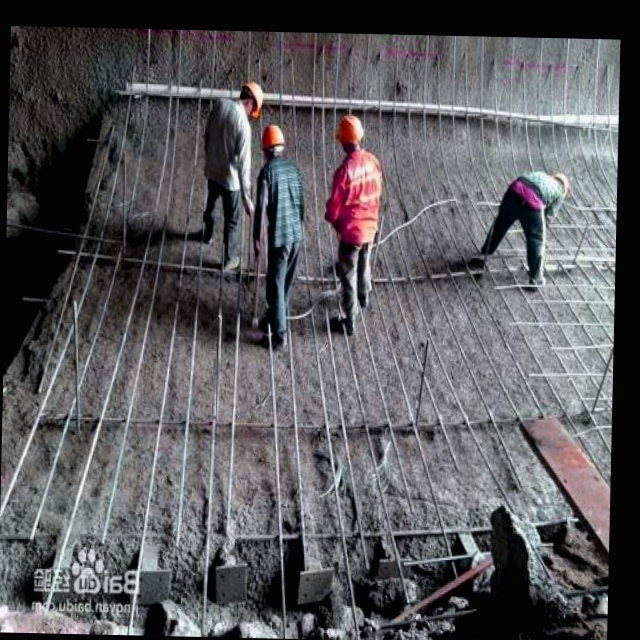Con_Casco: (336, 113, 364, 153), (261, 122, 285, 156)
Con_Chaleco: (341, 153, 387, 245)
Sin_Chaleco: (261, 157, 305, 247)
